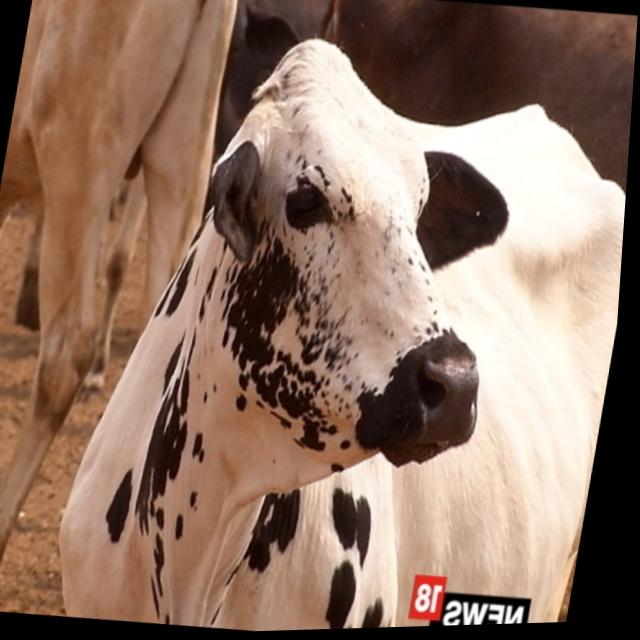cowFace: (159, 22, 543, 492)
